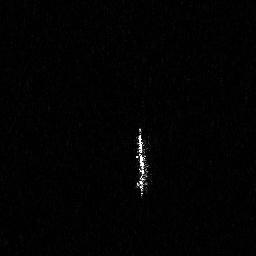ship: (132, 124, 153, 199)
